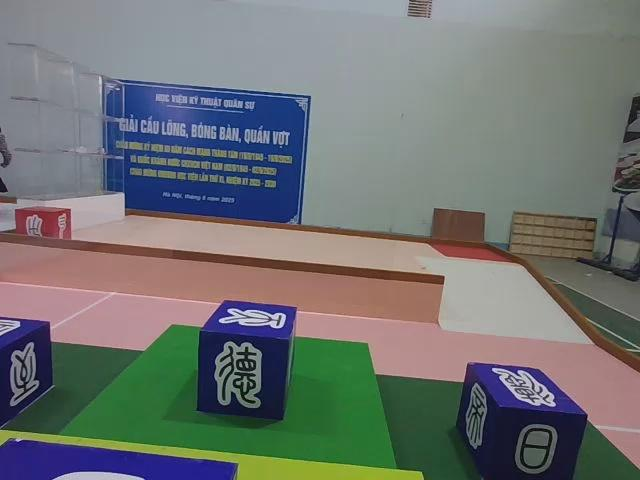R2 Fake Blue: (459, 365, 590, 480), (199, 303, 300, 426), (0, 318, 53, 432)
